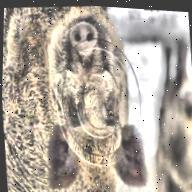boar: (0, 0, 144, 192)
